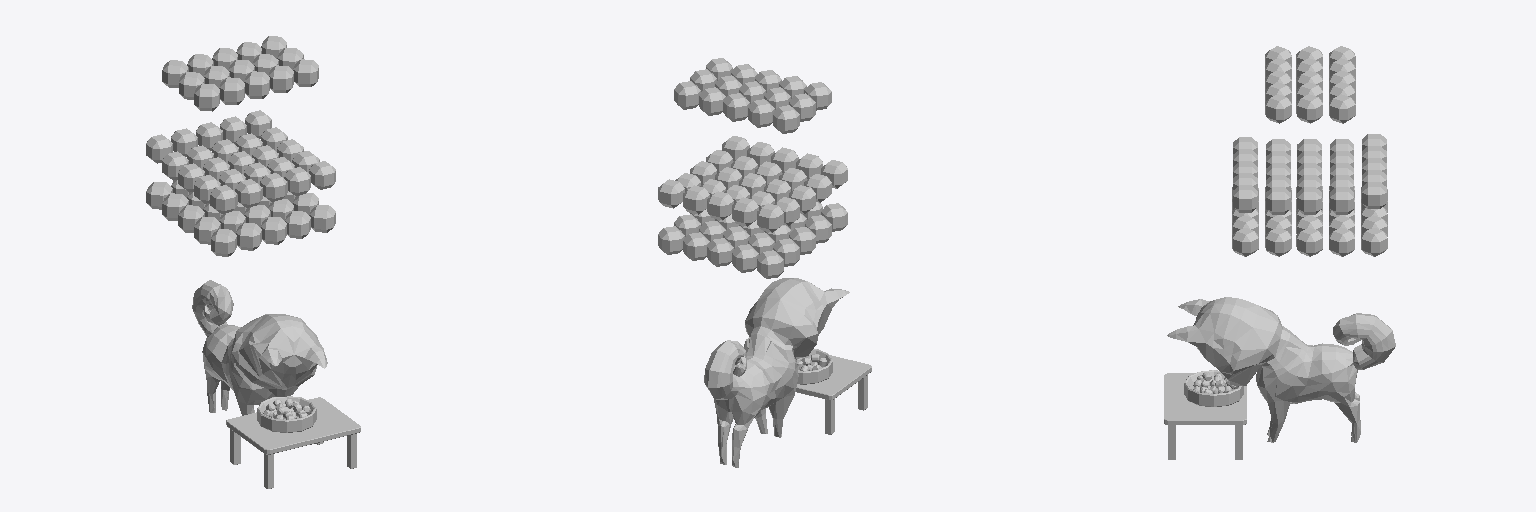
File: fullBowl_frame70.obj
3 renders of one model, left to right at view 1: azimuth 30°, elevation 25°; view 2: azimuth 150°, elevation 25°; view 3: azimuth 270°, elevation 25°, orthographic.
Visible parts, largest first — view 1: newRigging1:BodzL1, Tisch:Tisch:pCube1, FressnapfFull:bulletRigidSetSolved1, FressnapfFull:pCube57, FressnapfFull:pCube45, FressnapfFull:pCube46, FressnapfFull:pCube36, FressnapfFull:pCube43, FressnapfFull:pCube50, FressnapfFull:pCube42, FressnapfFull:pCube48, FressnapfFull:pCube49 (+10 smaller); view 2: newRigging1:BodzL1, Tisch:Tisch:pCube1, FressnapfFull:pCube51, FressnapfFull:pCube39, FressnapfFull:pCube64, FressnapfFull:bulletRigidSetSolved1, FressnapfFull:pCube53, FressnapfFull:pCube55, FressnapfFull:pCube54, FressnapfFull:pCube37, FressnapfFull:pCube38, FressnapfFull:pCube41 (+8 smaller); view 3: newRigging1:BodzL1, Tisch:Tisch:pCube1, FressnapfFull:bulletRigidSetSolved1, FressnapfFull:pCube31, FressnapfFull:pCube55, FressnapfFull:pCube4, FressnapfFull:pCube41, FressnapfFull:pCube10, FressnapfFull:pCube36, FressnapfFull:pCube50, FressnapfFull:pCube30, FressnapfFull:pCube25 (+4 smaller).
Boxes of the visible parts, box(x1,y1,x2,y2) form: newRigging1:BodzL1: box(192, 280, 327, 415); Tisch:Tisch:pCube1: box(226, 397, 360, 488); FressnapfFull:bulletRigidSetSolved1: box(257, 396, 316, 432); FressnapfFull:pCube57: box(210, 185, 237, 213); FressnapfFull:pCube45: box(194, 83, 219, 111); FressnapfFull:pCube46: box(211, 229, 236, 256); FressnapfFull:pCube36: box(293, 59, 318, 86); FressnapfFull:pCube43: box(244, 71, 269, 98); FressnapfFull:pCube50: box(309, 205, 335, 232); FressnapfFull:pCube42: box(219, 77, 244, 104); FressnapfFull:pCube48: box(261, 217, 286, 244); FressnapfFull:pCube49: box(236, 223, 261, 250); newRigging1:BodzL1: box(704, 278, 849, 467); Tisch:Tisch:pCube1: box(796, 355, 871, 434); FressnapfFull:pCube51: box(757, 250, 783, 278); FressnapfFull:pCube39: box(773, 105, 799, 133); FressnapfFull:pCube64: box(757, 203, 783, 232); FressnapfFull:bulletRigidSetSolved1: box(797, 349, 832, 384); FressnapfFull:pCube53: box(707, 238, 733, 266); FressnapfFull:pCube55: box(658, 226, 684, 254); FressnapfFull:pCube54: box(732, 244, 758, 272); FressnapfFull:pCube37: box(748, 99, 774, 127); FressnapfFull:pCube38: box(723, 93, 749, 121); FressnapfFull:pCube41: box(674, 81, 700, 109); newRigging1:BodzL1: box(1167, 297, 1395, 442); Tisch:Tisch:pCube1: box(1164, 373, 1246, 459); FressnapfFull:bulletRigidSetSolved1: box(1184, 370, 1243, 406); FressnapfFull:pCube31: box(1296, 94, 1322, 123); FressnapfFull:pCube55: box(1361, 228, 1387, 256); FressnapfFull:pCube4: box(1296, 227, 1322, 256); FressnapfFull:pCube41: box(1329, 94, 1355, 123); FressnapfFull:pCube10: box(1265, 228, 1291, 256); FressnapfFull:pCube36: box(1265, 94, 1291, 123); FressnapfFull:pCube50: box(1232, 228, 1258, 256); FressnapfFull:pCube30: box(1297, 187, 1321, 214); FressnapfFull:pCube25: box(1266, 187, 1290, 214).
Bounding box in the file's own units: 5.73 × 16.34 × 9.44.